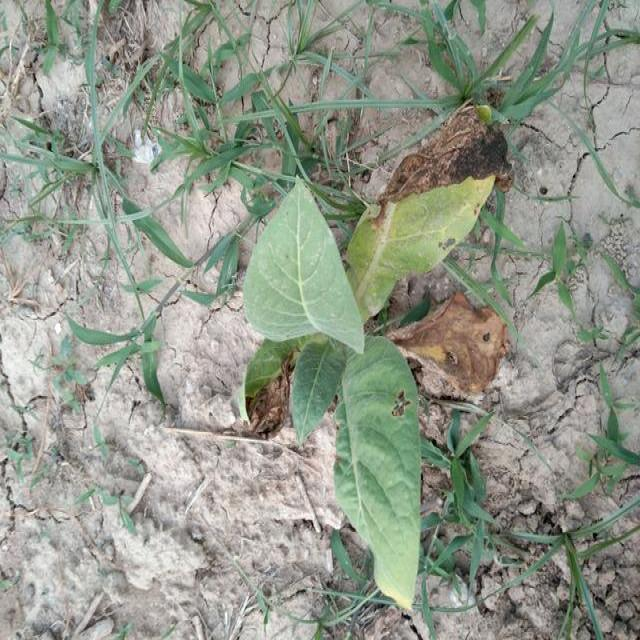crop: (238, 96, 519, 613)
